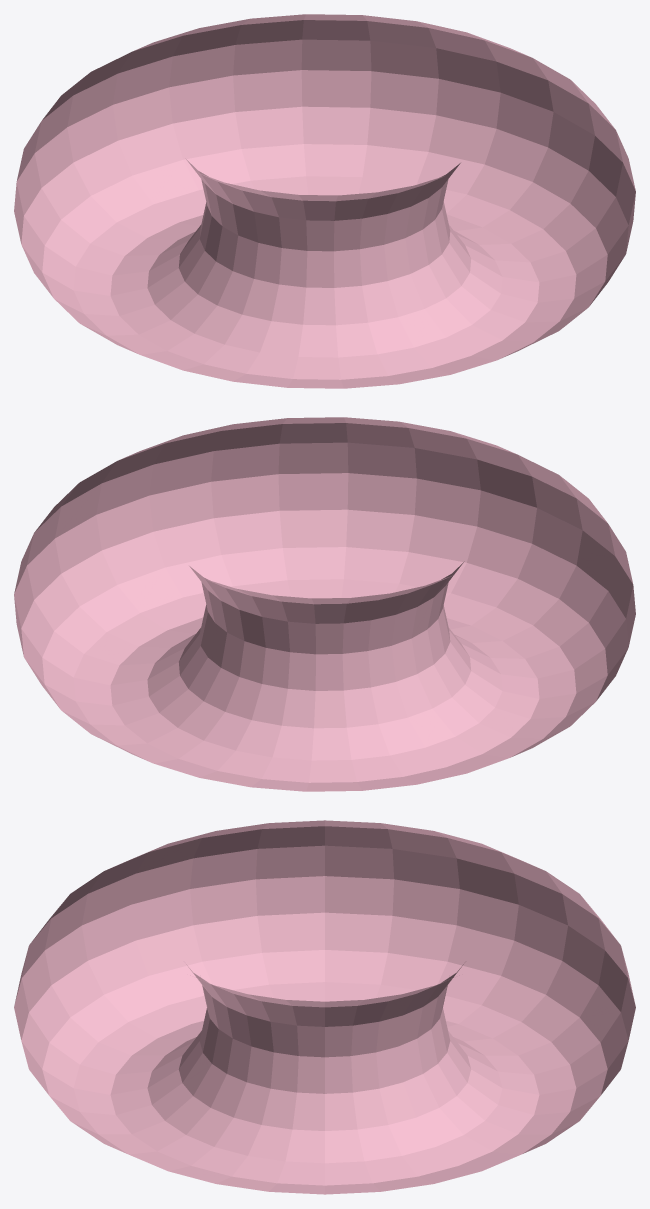
3 views of the same model, one above another, from view 1: azimuth 30°, elevation 25°; view 2: azimuth 150°, elevation 25°; view 3: azimuth 270°, elevation 25° (orthographic).
Size of the model in its own units: 1.16 by 0.36 by 1.16.
